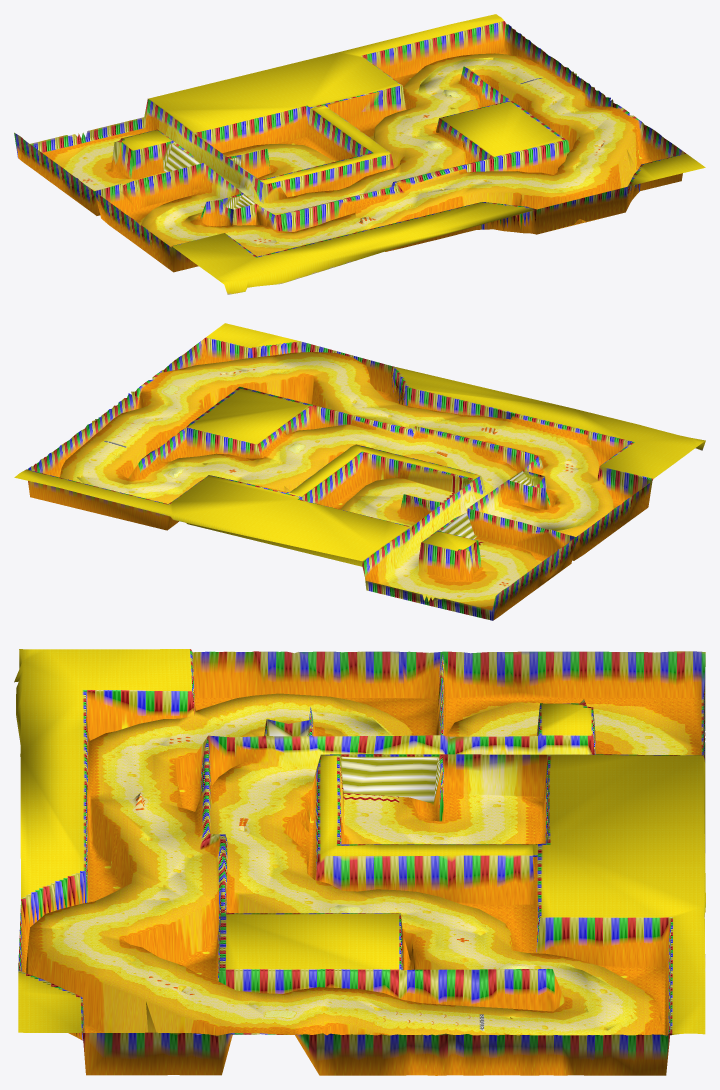
The model's file is cheeseland.obj.
3 views of the same model, one above another, from view 1: azimuth 30°, elevation 25°; view 2: azimuth 150°, elevation 25°; view 3: azimuth 270°, elevation 25° (orthographic). The views are drawn at different scales.
Parts seen in each view (by area): view 1: Grid.001; view 2: Grid.001; view 3: Grid.001.
Part boxes in pixels (bbox=[...]): Grid.001: bbox=[14, 14, 705, 294]; Grid.001: bbox=[14, 323, 705, 620]; Grid.001: bbox=[14, 649, 705, 1075].
Size of the model in its own units: 1.79 by 0.1038 by 1.36.
